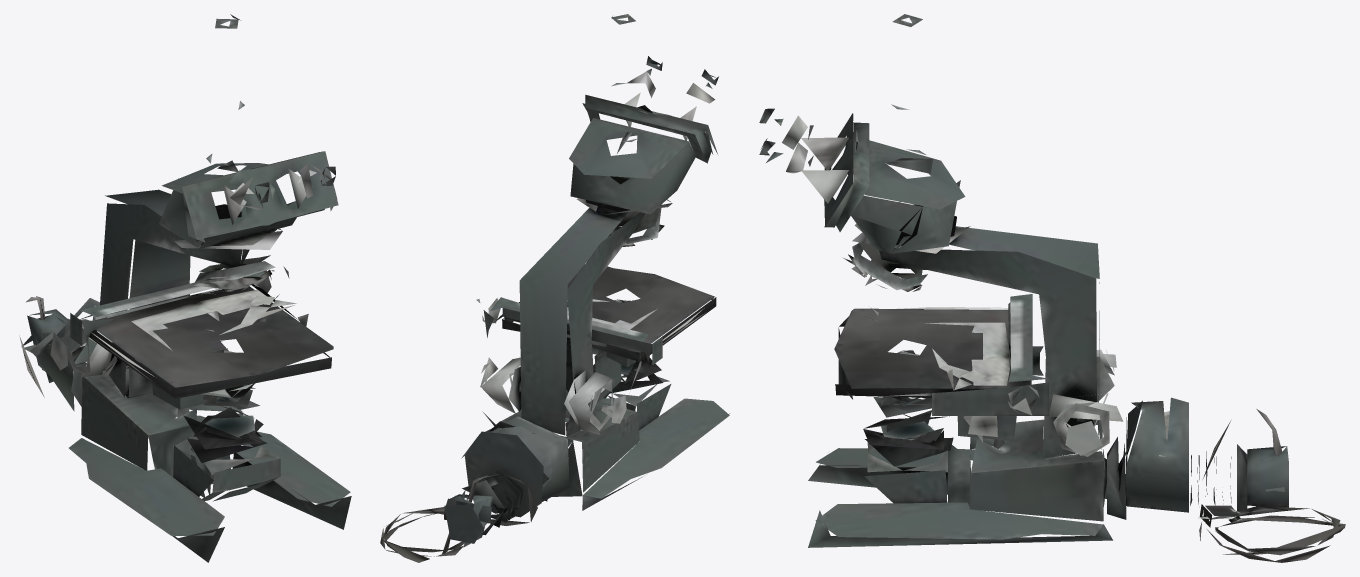
The model's file is microscope.glb.
3 renders of one model, left to right at view 1: azimuth 30°, elevation 25°; view 2: azimuth 150°, elevation 25°; view 3: azimuth 270°, elevation 25°, orthographic. The views are drawn at different scales.
Parts seen in each view (by area): view 1: microscope; view 2: microscope; view 3: microscope.
Boxes of the visible parts, x1,y1,x2,y2 form: microscope: (19, 14, 351, 562); microscope: (380, 14, 729, 562); microscope: (759, 14, 1345, 562).
Bounding box in the file's own units: 0.2145 × 0.4669 × 0.494.
1 material, 1 textured.
